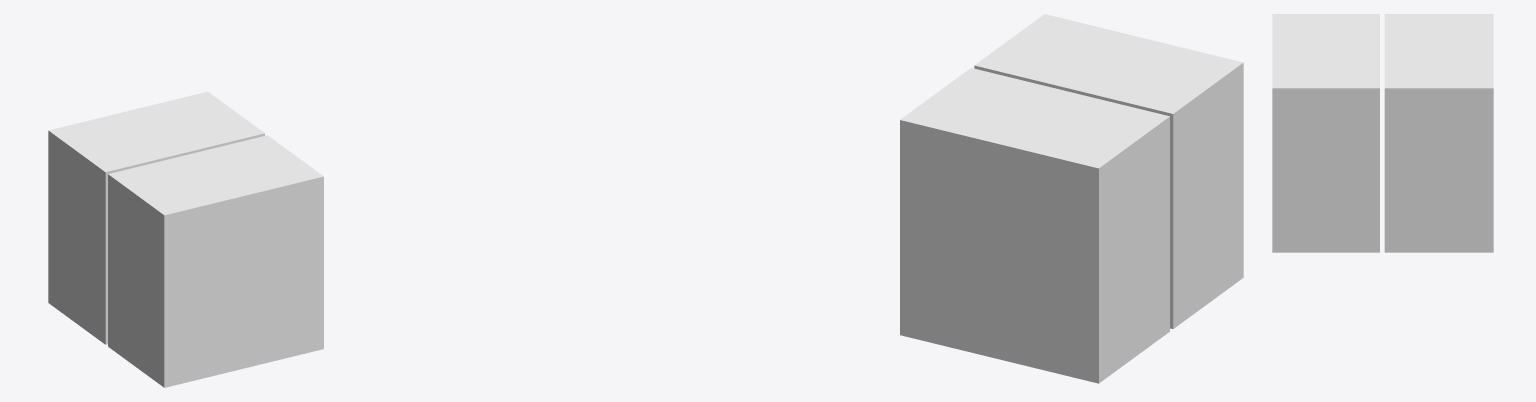
3 views of the same model, side by side, from view 1: azimuth 30°, elevation 25°; view 2: azimuth 150°, elevation 25°; view 3: azimuth 270°, elevation 25° (orthographic). The views are drawn at different scales.
Parts seen in each view (by area): view 1: 水流工艺; view 2: 水流工艺; view 3: 水流工艺.
Boxes of the visible parts, box(x1,y1,x2,y2) form: 水流工艺: box(48, 91, 323, 387); 水流工艺: box(900, 14, 1243, 383); 水流工艺: box(1272, 14, 1493, 252).
Size of the model in its own units: 5.64 by 2.09 by 2.67.
11 materials, 11 textured.
